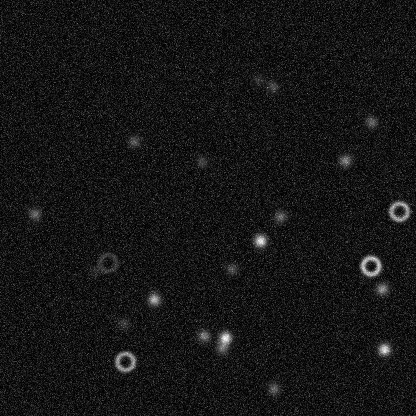Ring: (358, 253, 382, 277), (387, 199, 411, 223), (113, 349, 137, 373), (95, 250, 119, 274)
Spot: (363, 113, 379, 129), (264, 78, 280, 94), (374, 280, 390, 296), (265, 380, 281, 396), (193, 153, 209, 169), (272, 208, 288, 224), (214, 339, 230, 355), (115, 315, 131, 331), (223, 261, 239, 277), (145, 291, 161, 307), (217, 329, 233, 345), (376, 341, 392, 357), (86, 262, 102, 278), (195, 327, 211, 343), (250, 72, 266, 88), (337, 152, 353, 168), (26, 205, 42, 221), (252, 232, 268, 248), (126, 133, 142, 149)
